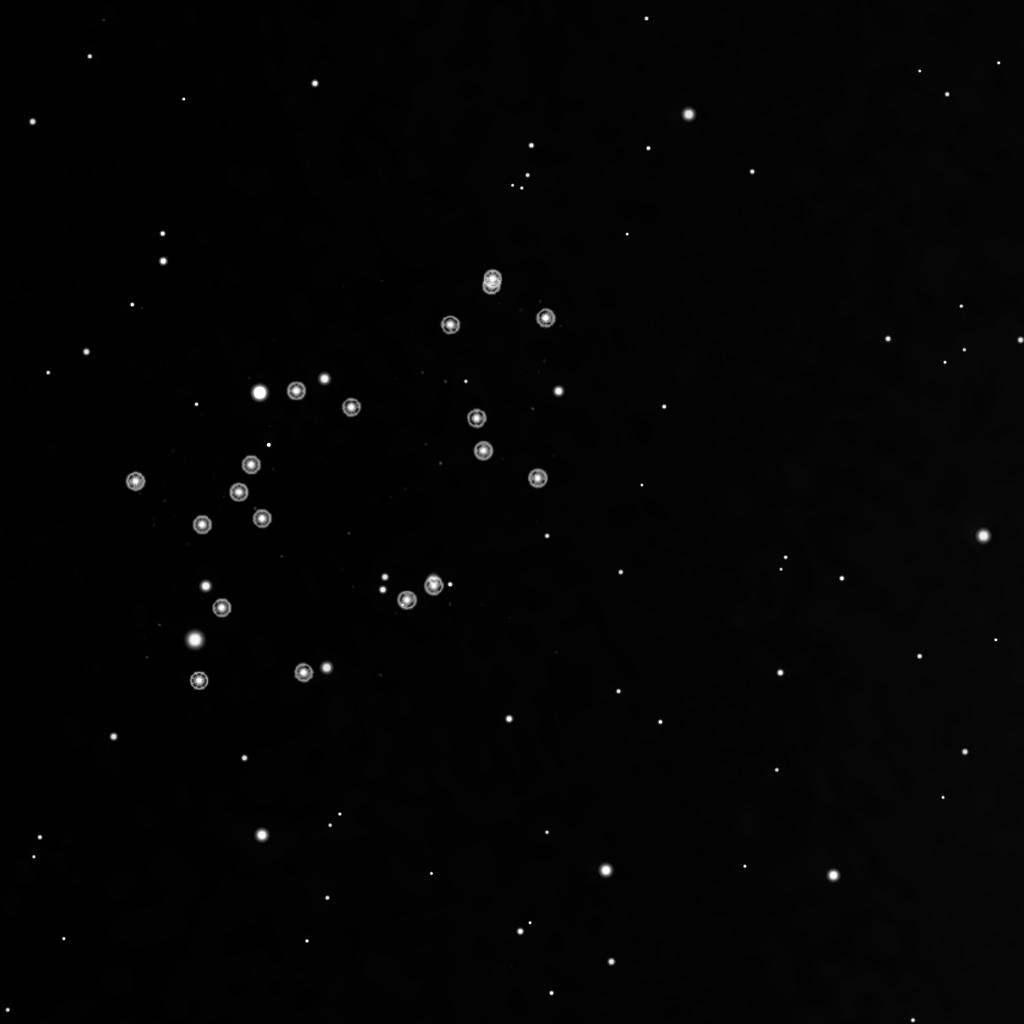canis_major: (184, 375, 367, 545)
